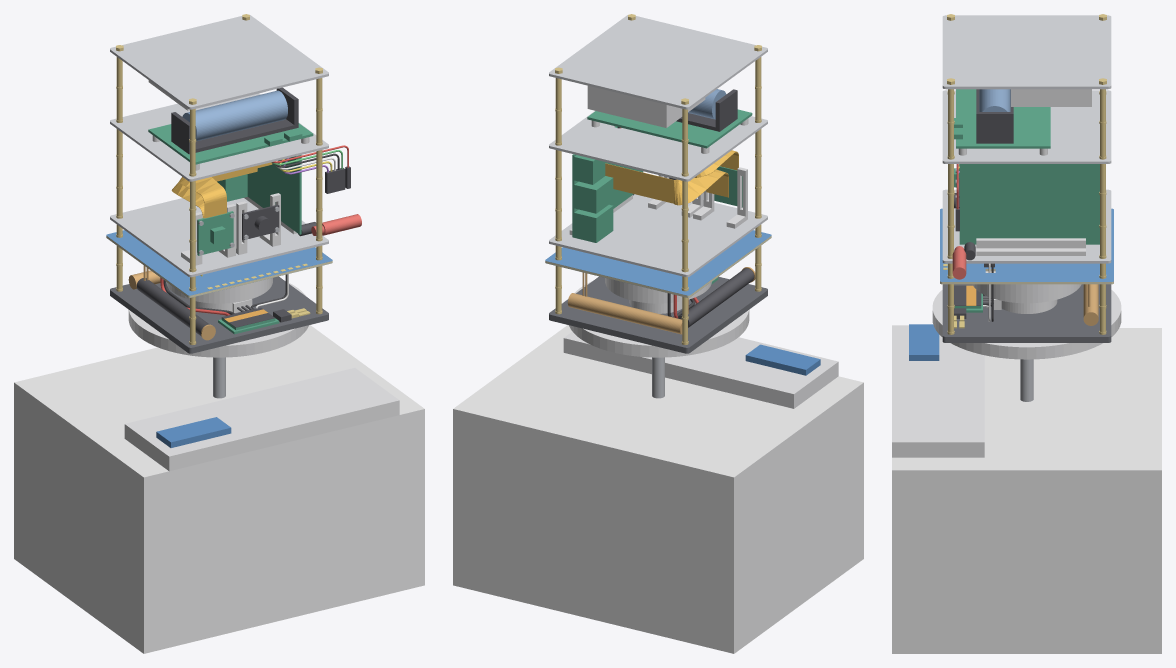
Rendered from cubesat.glb.
The picture shows the model from 3 angles, left to right: view 1: azimuth 30°, elevation 25°; view 2: azimuth 150°, elevation 25°; view 3: azimuth 270°, elevation 25°; orthographic projection. The views are drawn at different scales.
Visible parts, largest first — view 1: foam_base, breadboard, plate_3, plate_1, base_plate, plate_2, blue_pcb, raspberry_pi_5, cell_1, platform, cell_holder, power_board (+11 smaller); view 2: foam_base, plate_3, plate_1, breadboard, plate_2, base_plate, blue_pcb, raspberry_pi_5, ribbon_2, platform, pack_sleeve, power_board (+10 smaller); view 3: foam_base, plate_3, raspberry_pi_5, breadboard, base_plate, plate_2, blue_pcb, power_board, platform, plate_1, pi_bracket, rw_flywheel (+11 smaller).
Part boxes in pixels (x1,y1,x2,y2): foam_base: (14, 325, 424, 653); breadboard: (124, 368, 399, 471); plate_3: (110, 15, 328, 109); plate_1: (110, 198, 328, 277); base_plate: (110, 276, 328, 353); plate_2: (110, 93, 328, 181); blue_pcb: (106, 230, 332, 297); raspberry_pi_5: (217, 155, 301, 234); cell_1: (182, 90, 287, 141); platform: (128, 283, 308, 357); cell_holder: (171, 87, 298, 154); power_board: (148, 123, 313, 164); foam_base: (453, 325, 863, 653); plate_3: (549, 15, 767, 109); plate_1: (549, 194, 767, 277); breadboard: (563, 331, 838, 408); plate_2: (549, 111, 767, 181); base_plate: (549, 276, 767, 353); blue_pcb: (545, 230, 771, 297); raspberry_pi_5: (572, 126, 643, 242); ribbon_2: (605, 163, 728, 205); platform: (569, 281, 749, 357); pack_sleeve: (587, 85, 705, 127); power_board: (587, 109, 752, 148); foam_base: (892, 328, 1161, 653); plate_3: (942, 15, 1111, 89); raspberry_pi_5: (959, 164, 1099, 244); breadboard: (892, 325, 984, 457); base_plate: (942, 284, 1111, 342); plate_2: (942, 90, 1111, 163); blue_pcb: (940, 208, 1113, 281); power_board: (954, 89, 1050, 148); platform: (932, 290, 1121, 359); plate_1: (942, 189, 1111, 263); pi_bracket: (976, 238, 1085, 255); rw_flywheel: (972, 271, 1081, 303).
Size of the model in its own units: 0.2 by 0.3496 by 0.16.
